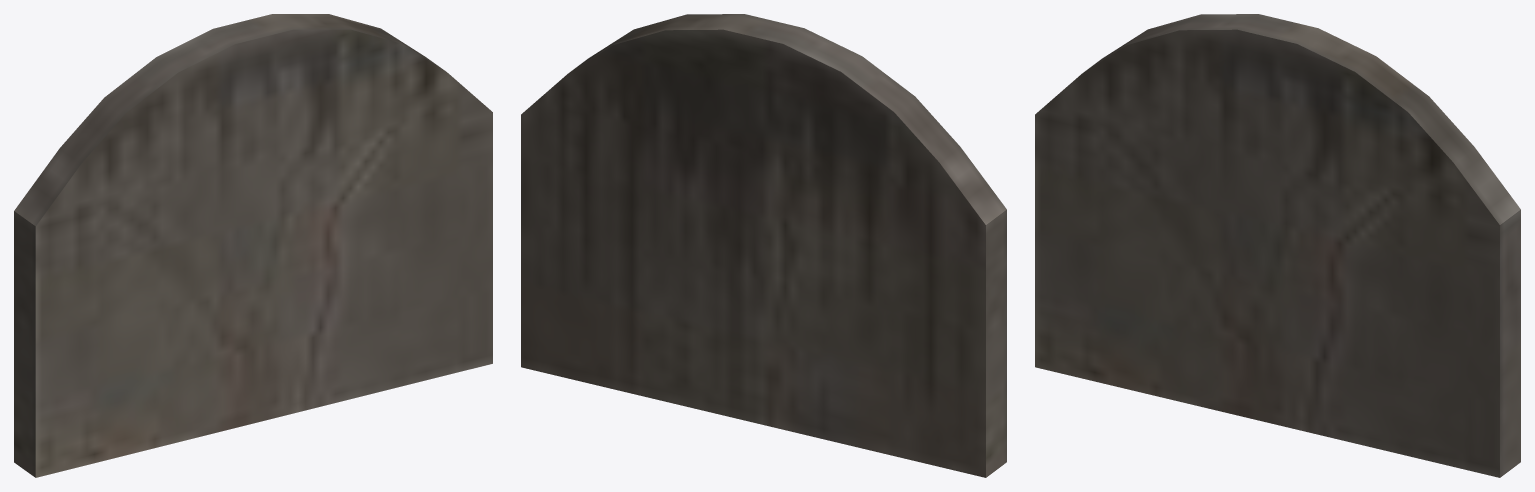
File: SM_Mausoleum_Lid_C.glb
3 views of the same model, side by side, from view 1: azimuth 30°, elevation 25°; view 2: azimuth 150°, elevation 25°; view 3: azimuth 330°, elevation 25° (orthographic).
Visible parts, largest first — view 1: SM_Mausoleum_Lid_C; view 2: SM_Mausoleum_Lid_C; view 3: SM_Mausoleum_Lid_C.
Boxes of the visible parts, x1=… form: SM_Mausoleum_Lid_C: x1=14, y1=14, x2=492, y2=477; SM_Mausoleum_Lid_C: x1=521, y1=14, x2=1006, y2=477; SM_Mausoleum_Lid_C: x1=1035, y1=14, x2=1520, y2=477.
Size of the model in its own units: 0.9216 by 0.7345 by 0.0837.
1 material, 1 textured.
